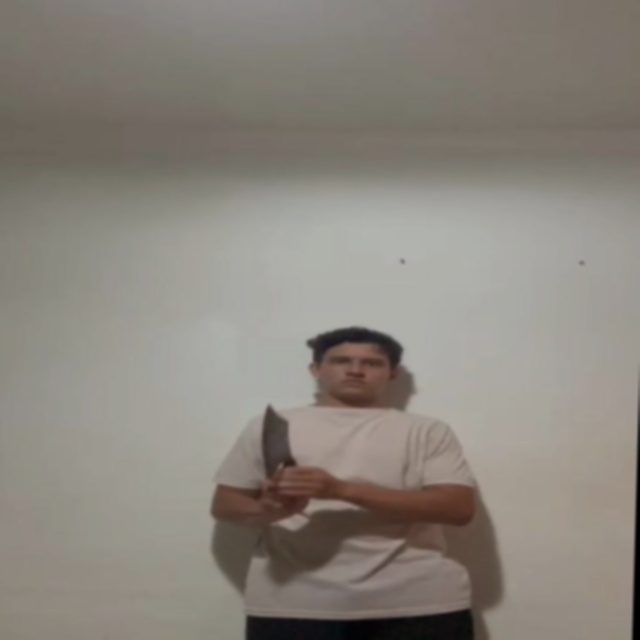Sharp-Object: (260, 402, 292, 474)
